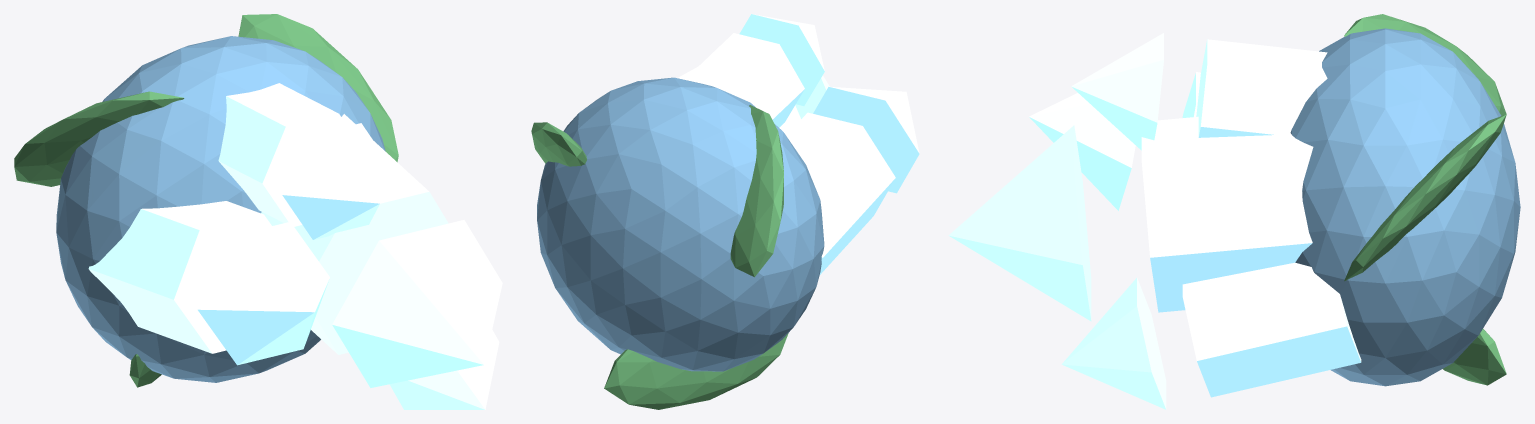
The model's file is frostcap-4098.glb.
3 views of the same model, side by side, from view 1: azimuth 30°, elevation 25°; view 2: azimuth 150°, elevation 25°; view 3: azimuth 270°, elevation 25° (orthographic). The views are drawn at different scales.
Visible parts, largest first — view 1: cap, crystal1, crystal0, crystal3, leaf1, leaf0, crystal2, leaf2; view 2: cap, crystal0, crystal3, leaf2, leaf1, leaf0, crystal1; view 3: cap, crystal1, crystal2, crystal3, crystal0, leaf0, leaf1, leaf2.
Boxes of the visible parts, x1,y1,x2,y2 form: cap: (56,36,385,382); crystal1: (261,114,502,387); crystal0: (88,201,329,365); crystal3: (218,83,391,239); leaf1: (14,91,184,186); leaf0: (238,14,398,162); crystal2: (389,330,499,409); leaf2: (129,354,161,387); cap: (537,77,824,371); crystal0: (786,86,919,274); crystal3: (684,14,824,127); leaf2: (604,333,788,409); leaf1: (730,105,783,277); leaf0: (531,122,586,166); crystal1: (677,67,829,135); cap: (1290,28,1520,386); crystal1: (948,116,1313,321); crystal2: (1061,262,1361,409); crystal3: (1071,33,1327,150); crystal0: (1029,72,1200,210); leaf0: (1344,114,1506,281); leaf1: (1344,14,1506,115); leaf2: (1443,329,1506,385).
Bounding box in the file's own units: 1.78 × 1.79 × 2.7.
